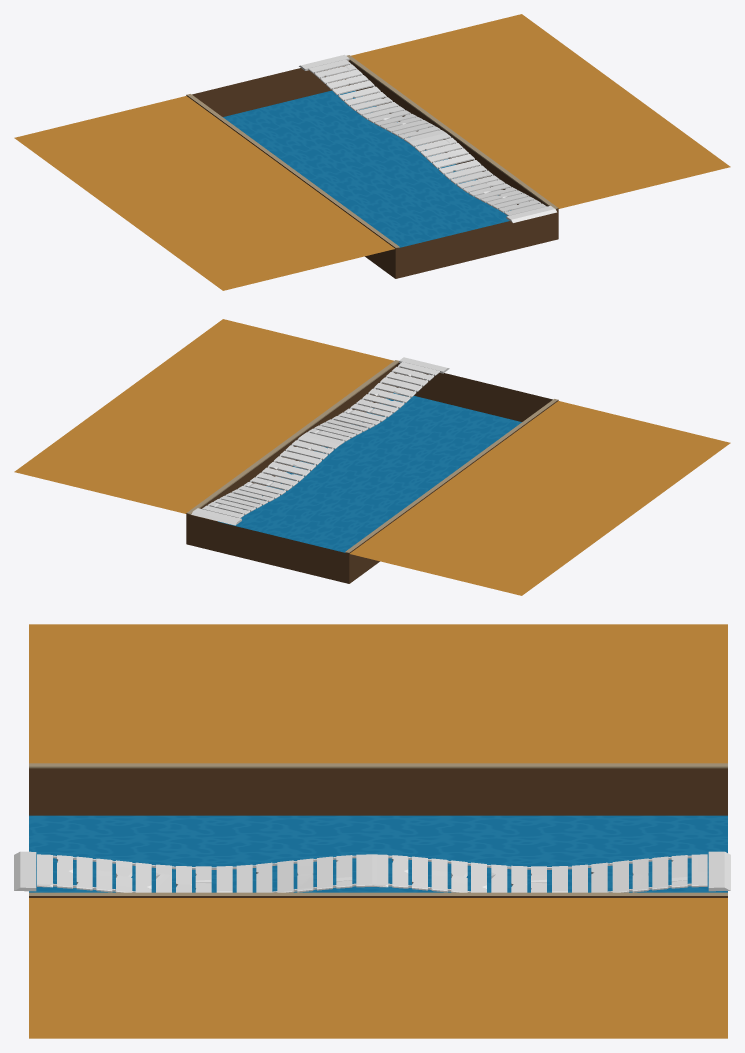
The model's file is Bridge ramp.FBX.
3 renders of one model, top to bottom at view 1: azimuth 30°, elevation 25°; view 2: azimuth 150°, elevation 25°; view 3: azimuth 270°, elevation 25°, orthographic. The views are drawn at different scales.
Visible parts, largest first — view 1: River Patch, Wooden_Bridge; view 2: River Patch, Wooden_Bridge; view 3: River Patch, Wooden_Bridge.
Boxes of the visible parts, <box> form: River Patch: <box>14,14,730,290</box>; Wooden_Bridge: <box>299,54,556,222</box>; River Patch: <box>14,319,730,595</box>; Wooden_Bridge: <box>191,357,449,525</box>; River Patch: <box>29,624,727,1038</box>; Wooden_Bridge: <box>14,851,730,892</box>.
Bounding box in the file's own units: 7480 × 473 × 5471.
